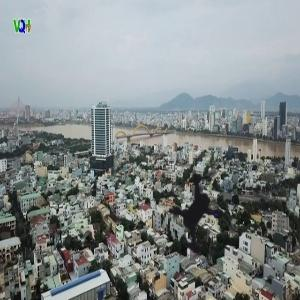drone: (118, 132, 281, 295)
